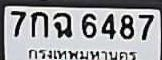4: (101, 13, 114, 38)
6: (81, 12, 95, 37)
7: (10, 10, 25, 36), (138, 14, 153, 39)
8: (119, 14, 133, 38)
A01: (30, 11, 47, 37)
A09: (53, 12, 71, 37)
BKK: (26, 47, 139, 60)
